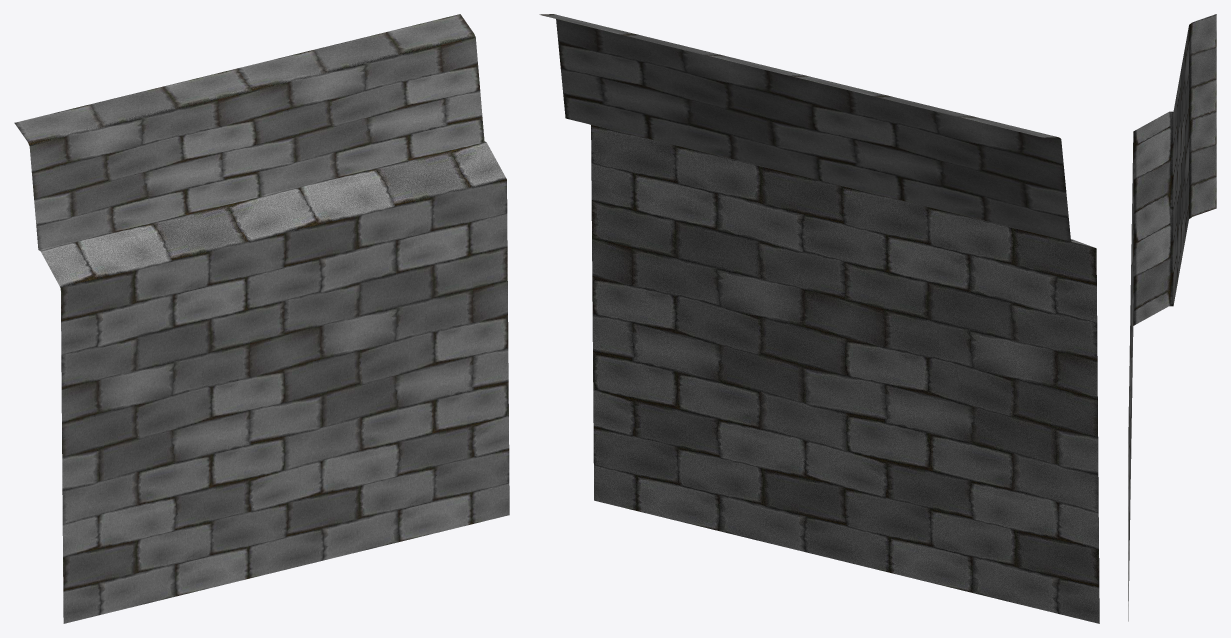
File: CastleMod_BaseWall].fbx
3 views of the same model, side by side, from view 1: azimuth 30°, elevation 25°; view 2: azimuth 150°, elevation 25°; view 3: azimuth 270°, elevation 25° (orthographic). The views are drawn at different scales.
Parts seen in each view (by area): view 1: CastleMod_BaseWall; view 2: CastleMod_BaseWall; view 3: CastleMod_BaseWall.
Boxes of the visible parts, <box> form: CastleMod_BaseWall: <box>14,14,509,623</box>; CastleMod_BaseWall: <box>539,14,1099,623</box>; CastleMod_BaseWall: <box>1128,14,1216,621</box>.
Size of the model in its own units: 5.27 by 5.25 by 1.01.
Materials: 1 (1 with a texture image).
